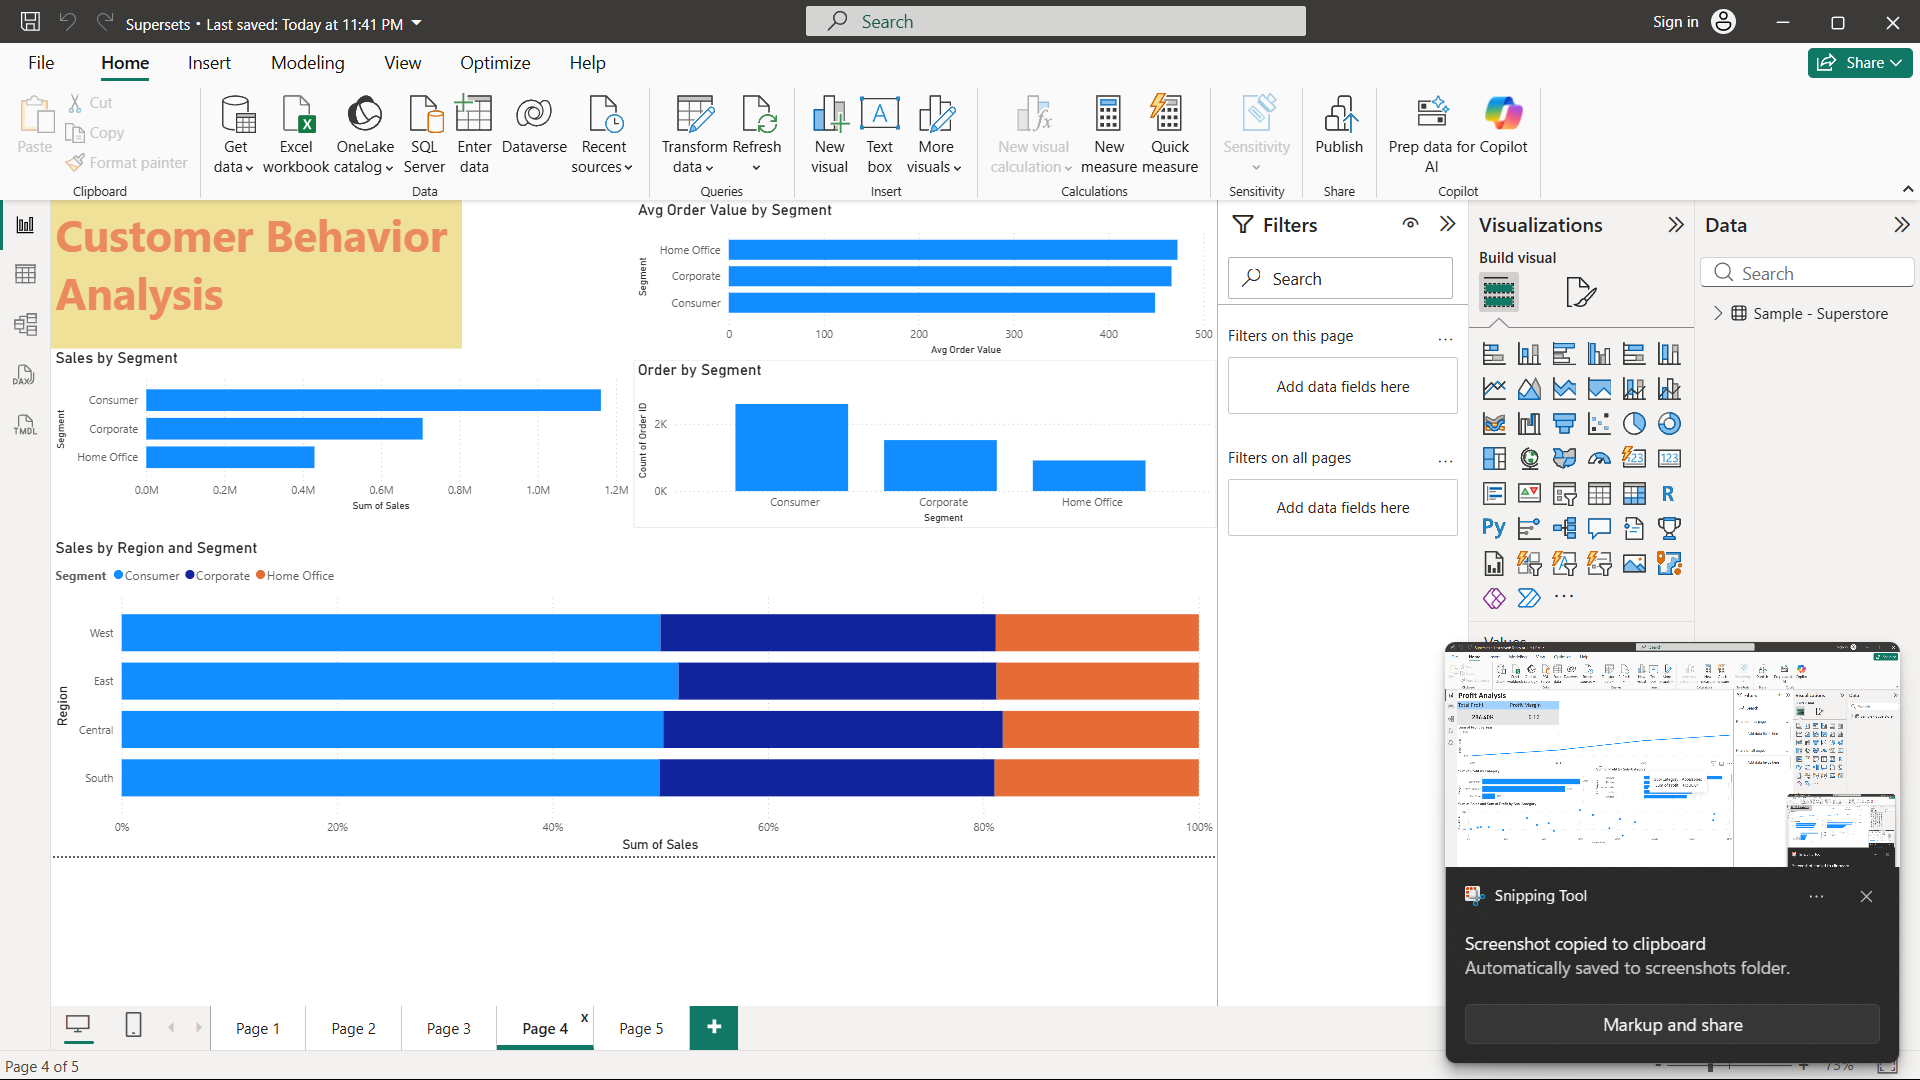

This screenshot's page, from the dashboard's own definition file:
{"tool":"powerbi","page":{"name":"Page 4","canvas":[1280,720],"ordinal":3},"visuals":[{"type":"barChart","title":"Sales by Segment","fields":{"Y":["Sum(Sample - Superstore.Sales)"],"Category":["Sample - Superstore.Segment"]},"box":[0,163.3,639.5,183.9],"z":0},{"type":"columnChart","title":"Order by Segment","fields":{"Y":["Count(Sample - Superstore.Order ID)"],"Category":["Sample - Superstore.Segment"]},"box":[639.5,175.6,639.5,183.9],"z":1000},{"type":"hundredPercentStackedBarChart","title":"Sales by Region and Segment","fields":{"Y":["Sum(Sample - Superstore.Sales)"],"Category":["Sample - Superstore.Region"],"Series":["Sample - Superstore.Segment"]},"box":[0,371.9,1280.3,348.5],"z":2000},{"type":"barChart","fields":{"Category":["Sample - Superstore.Segment"],"Y":["Sample - Superstore.Avg Order Value"]},"box":[639.5,0,640.8,175.6],"z":3000},{"type":"textbox","box":[0,0,451.5,163.3],"z":4000}]}

Visuals, with their boxes on the page's 1280x720 design canvas (x1, y1, x2, y2). These are canvas units, not pixel positions in the 1920x1080 screenshot, which may show the page scaled, cropped or inside an application window:
"Sales by Segment" barChart: 0,163,640,347
"Order by Segment" columnChart: 640,176,1279,360
"Sales by Region and Segment" hundredPercentStackedBarChart: 0,372,1280,720
barChart - Sample - Superstore.Segment x Sample - Superstore.Avg Order Value: 640,0,1280,176
textbox: 0,0,452,163
